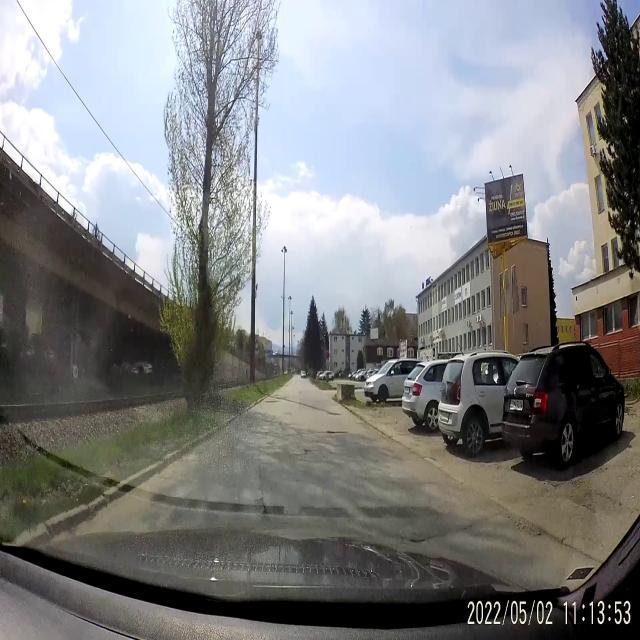Pothole: (312, 421, 354, 439), (403, 526, 428, 548), (300, 446, 314, 462)
